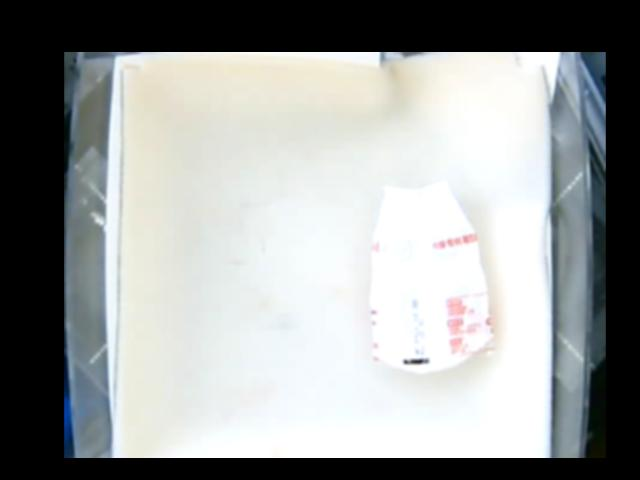Bottle: (365, 180, 495, 375)
